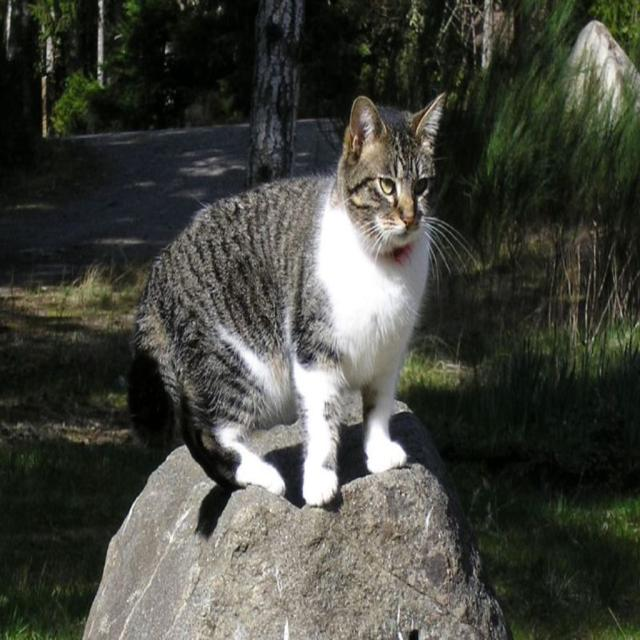Cat: (132, 93, 479, 500)
